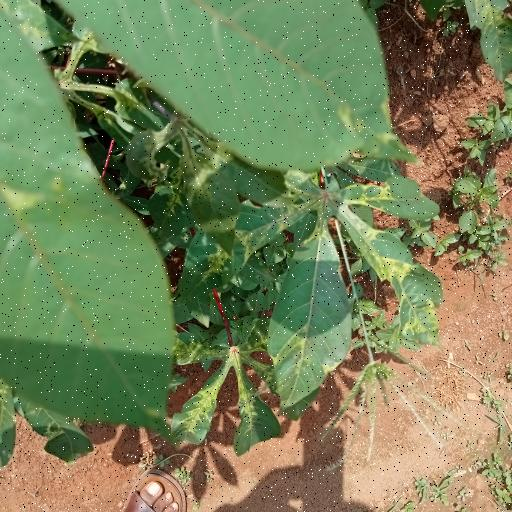Cassava_Healthy: (228, 161, 436, 398), (170, 315, 310, 450)
